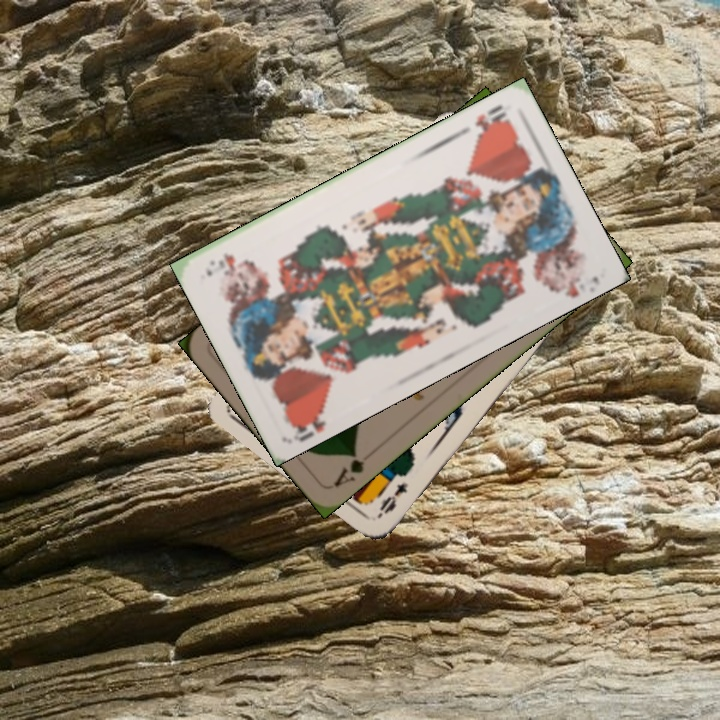EO: (373, 478, 411, 522)
GA: (329, 447, 367, 490)
HO: (286, 401, 329, 444), (470, 100, 512, 140)
